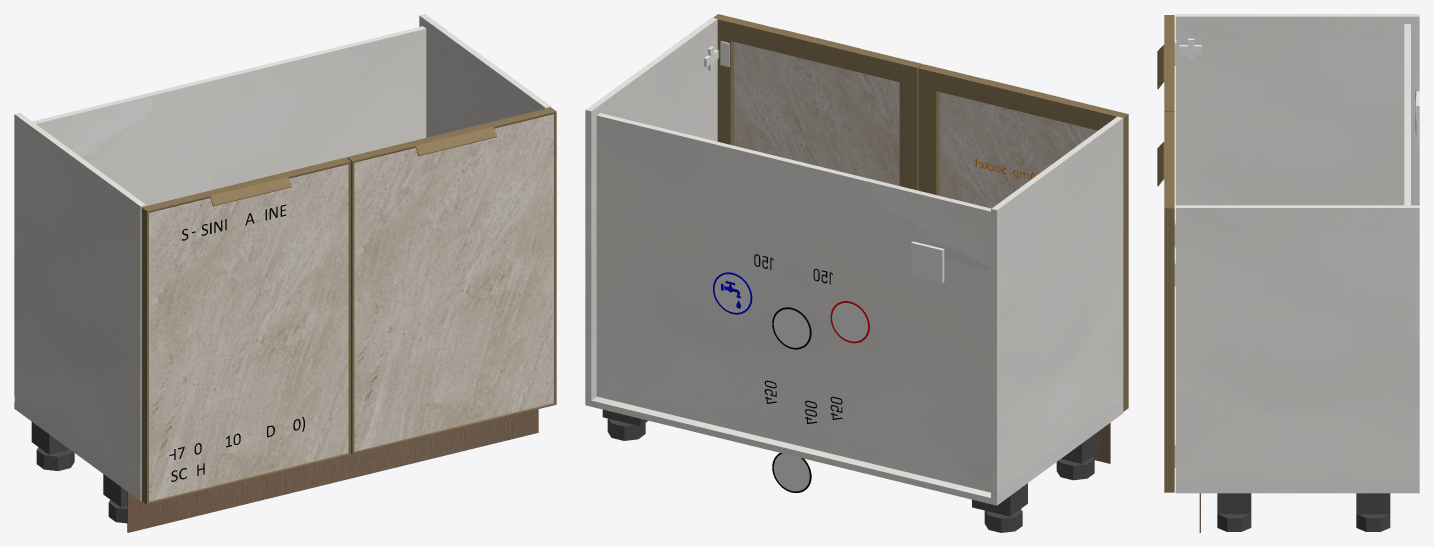
The model's file is BC-SK-TTS-ST-XXX-2HS-XXX-1050-720-560-15.glb.
3 views of the same model, side by side, from view 1: azimuth 30°, elevation 25°; view 2: azimuth 150°, elevation 25°; view 3: azimuth 270°, elevation 25° (orthographic). The views are drawn at different scales.
Parts seen in each view (by area): view 1: Object_node_17, Object_node, TP, TP_node_0, Object_node_84, TP_node_1, Extrusion_node_4, ExtrSplGeo, ExtrSplGeo_node, Extrusion_node_11, Extrusion_node, Object_node_36 (+6 smaller); view 2: TP, TP_node_0, Object_node_17, TP_node_1, Object_node, TP_node, Extrusion_node, Extrusion_node_2, Extrusion_node_11, ExtrSplGeo, ExtrSplGeo_node, Extrusion_node_4 (+13 smaller); view 3: TP_node_1, TP_node_0, Extrusion_node_9, TP_node, Object_node_38, TP, Plate_node, Plate_node_1, ExtrSplGeo_node, ExtrSplGeo, Extrusion_node, Foot_node (+3 smaller).
Part boxes in pixels (x1=…): Object_node_17: x1=354, y1=114, x2=553, y2=451; Object_node: x1=149, y1=164, x2=348, y2=501; TP: x1=32, y1=26, x2=426, y2=205; TP_node_0: x1=14, y1=113, x2=146, y2=488; Object_node_84: x1=127, y1=409, x2=538, y2=532; TP_node_1: x1=419, y1=14, x2=551, y2=137; Extrusion_node_4: x1=141, y1=207, x2=148, y2=504; ExtrSplGeo: x1=205, y1=173, x2=291, y2=206; ExtrSplGeo_node: x1=410, y1=123, x2=496, y2=156; Extrusion_node_11: x1=347, y1=157, x2=354, y2=454; Extrusion_node: x1=142, y1=157, x2=350, y2=212; Object_node_36: x1=14, y1=396, x2=141, y2=494; TP: x1=596, y1=113, x2=991, y2=492; TP_node_0: x1=991, y1=116, x2=1123, y2=492; Object_node_17: x1=734, y1=42, x2=899, y2=185; TP_node_1: x1=585, y1=17, x2=717, y2=393; Object_node: x1=939, y1=92, x2=1097, y2=208; TP_node: x1=585, y1=396, x2=1123, y2=505; Extrusion_node: x1=918, y1=64, x2=1128, y2=130; Extrusion_node_2: x1=918, y1=69, x2=939, y2=195; Extrusion_node_11: x1=899, y1=64, x2=922, y2=190; ExtrSplGeo: x1=981, y1=79, x2=1065, y2=121; ExtrSplGeo_node: x1=776, y1=29, x2=859, y2=70; Extrusion_node_4: x1=1123, y1=114, x2=1128, y2=411; TP_node_1: x1=1175, y1=205, x2=1419, y2=480; TP_node_0: x1=1175, y1=14, x2=1419, y2=205; Extrusion_node_9: x1=1164, y1=208, x2=1174, y2=492; TP_node: x1=1175, y1=487, x2=1419, y2=493; Object_node_38: x1=1175, y1=481, x2=1419, y2=487; TP: x1=1404, y1=24, x2=1410, y2=205; Plate_node: x1=1356, y1=493, x2=1390, y2=514; Plate_node_1: x1=1217, y1=493, x2=1251, y2=514; ExtrSplGeo_node: x1=1157, y1=141, x2=1174, y2=186; ExtrSplGeo: x1=1157, y1=44, x2=1174, y2=89; Extrusion_node: x1=1164, y1=15, x2=1174, y2=111; Foot_node: x1=1356, y1=514, x2=1390, y2=531.
Size of what is drawn, in the model's own units: 1.05 by 0.82 by 0.6.
Materials: 13 (3 with a texture image).
